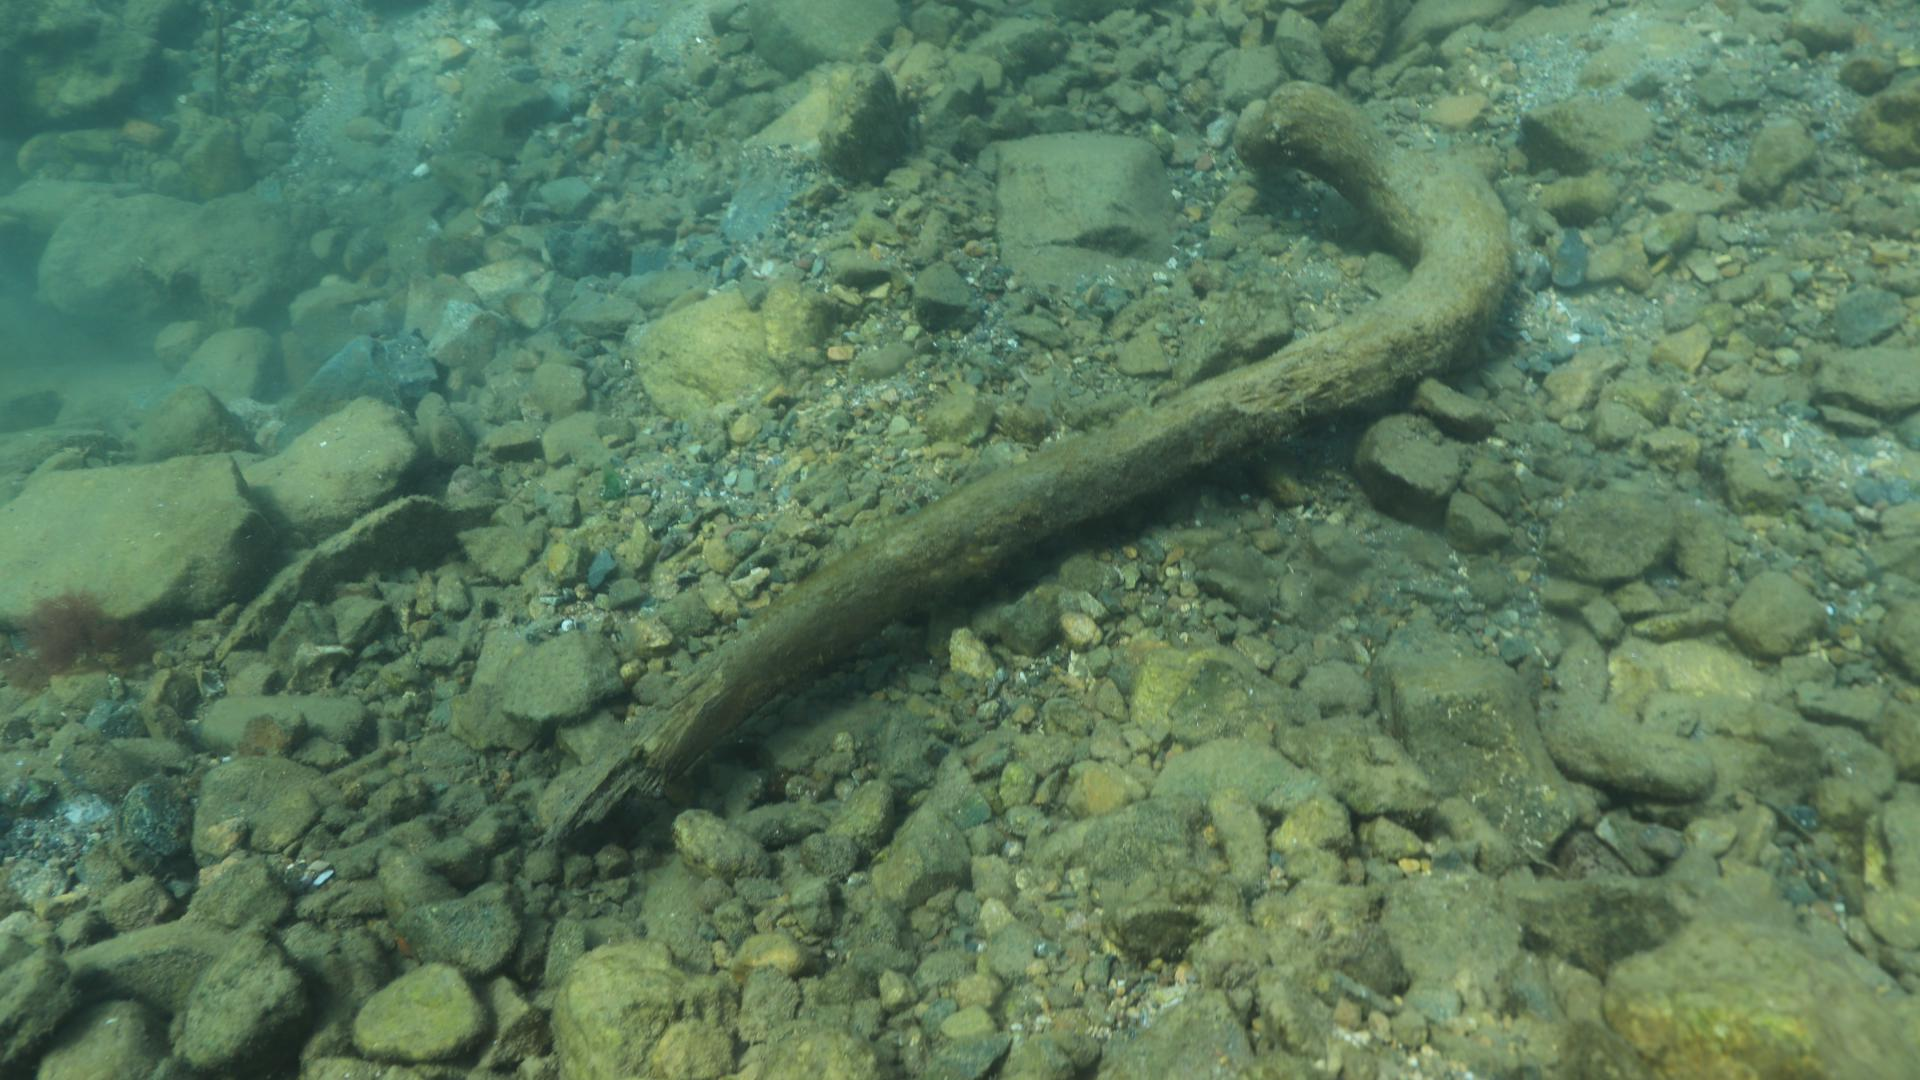wood: (549, 76, 1514, 828)
